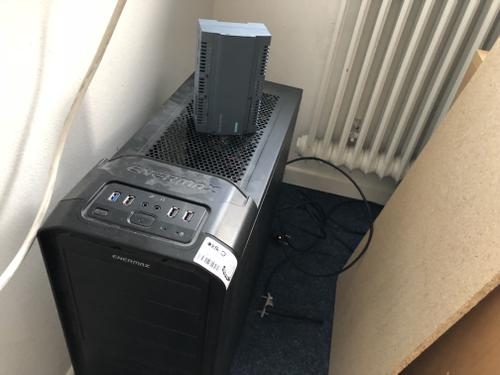device: (193, 19, 272, 136)
